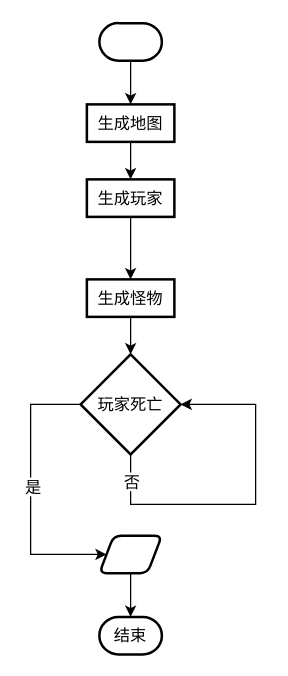
This 288x676 diagram has some shape labels left out. Here are the shapes that lost their labels. From the top down, the centre of each, then its label:
At (x=130, y=41): "开始".
At (x=130, y=554): "存档".
